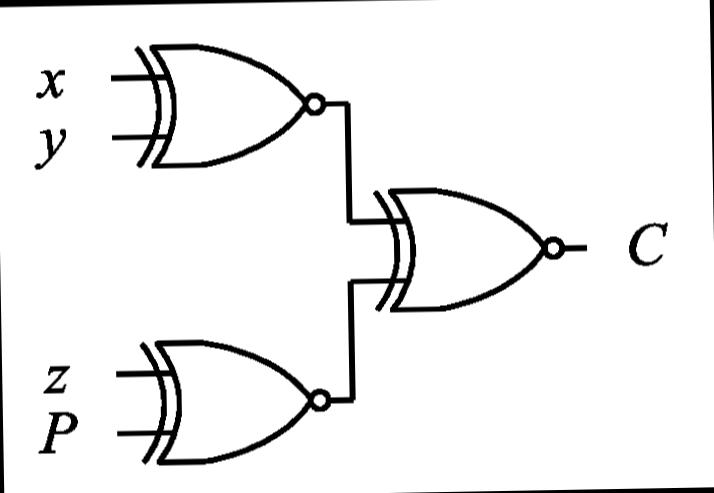xnor: (370, 166, 581, 322), (128, 29, 338, 179), (134, 325, 338, 474)
